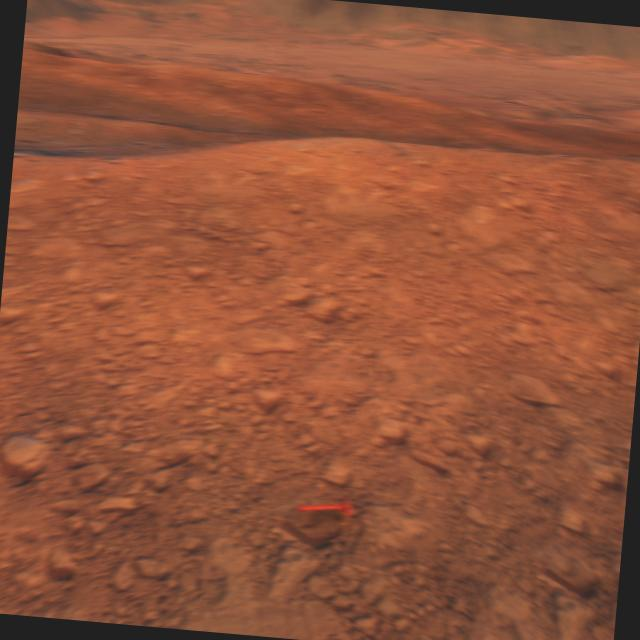newhammer: (298, 491, 352, 517)
